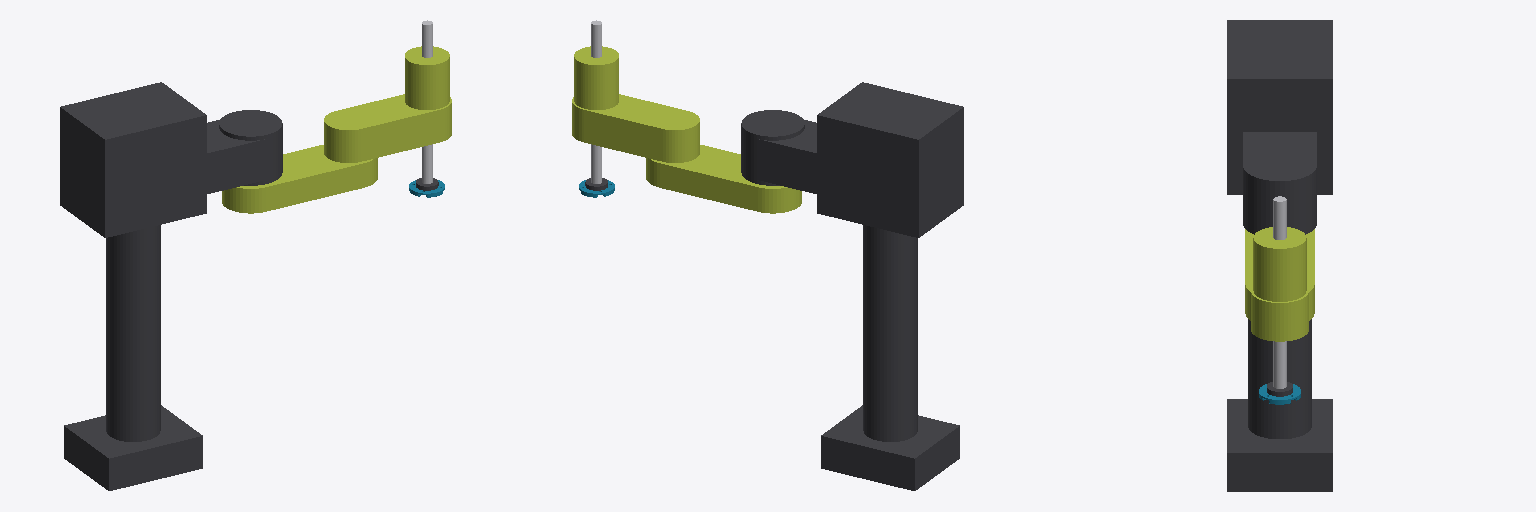
robot.urdf — SR450:
<?xml version="1.0"?>
<!-- Bosch SR450 SCARA, generated by tools/make_bosch_urdf.py from the
     kinematics of ctu_bosch_sr450.RobotBosch: the flange frame is
     RobotBosch.flange_pose(q). The link shapes are boxes / cylinders
     approximating the real arm, the adapter and the hoop are the CAD
     models. joint4 is relative to arm 2 (see RobotBosch.model_q). -->
<robot name="SR450">
    <link name="base_link">
        <inertial><mass value="1"/><inertia ixx="0.01" iyy="0.01" izz="0.01" ixy="0" ixz="0" iyz="0"/></inertial>
        <visual>
            <origin xyz="0 0 0" rpy="0 0 0"/>
            <geometry><mesh filename="meshes/sr450_base_link.stl" scale="0.001 0.001 0.001"/></geometry>
            <material name="base_link_color"><color rgba="0.3 0.3 0.32 1"/></material>
        </visual>
    </link>
    <joint name="joint1" type="revolute">
        <origin xyz="0 0 0" rpy="0 0 0"/>
        <parent link="base_link"/>
        <child link="link_1"/>
        <axis xyz="0 0 1"/>
        <limit effort="100" velocity="10" lower="-1.483524" upper="1.483524"/>
    </joint>
    <link name="link_1">
        <inertial><mass value="1"/><inertia ixx="0.01" iyy="0.01" izz="0.01" ixy="0" ixz="0" iyz="0"/></inertial>
        <visual>
            <origin xyz="0 0 0" rpy="0 0 0"/>
            <geometry><mesh filename="meshes/sr450_link_1.stl" scale="0.001 0.001 0.001"/></geometry>
            <material name="link_1_color"><color rgba="0.72 0.78 0.3 1"/></material>
        </visual>
    </link>
    <joint name="joint2" type="revolute">
        <origin xyz="0.25 0 0" rpy="0 0 0"/>
        <parent link="link_1"/>
        <child link="link_2"/>
        <axis xyz="0 0 1"/>
        <limit effort="100" velocity="10" lower="-2.094405" upper="2.094405"/>
    </joint>
    <link name="link_2">
        <inertial><mass value="1"/><inertia ixx="0.01" iyy="0.01" izz="0.01" ixy="0" ixz="0" iyz="0"/></inertial>
        <visual>
            <origin xyz="0 0 0" rpy="0 0 0"/>
            <geometry><mesh filename="meshes/sr450_link_2.stl" scale="0.001 0.001 0.001"/></geometry>
            <material name="link_2_color"><color rgba="0.72 0.78 0.3 1"/></material>
        </visual>
    </link>
    <joint name="joint3" type="prismatic">
        <origin xyz="0.2 0 0.5" rpy="0 0 0"/>
        <parent link="link_2"/>
        <child link="link_3"/>
        <axis xyz="0 0 1"/>
        <limit effort="100" velocity="10" lower="-0.330000" upper="0.005000"/>
    </joint>
    <link name="link_3">
        <inertial><mass value="1"/><inertia ixx="0.01" iyy="0.01" izz="0.01" ixy="0" ixz="0" iyz="0"/></inertial>
        <visual>
            <origin xyz="0 0 0" rpy="0 0 0"/>
            <geometry><mesh filename="meshes/sr450_link_3.stl" scale="0.001 0.001 0.001"/></geometry>
            <material name="link_3_color"><color rgba="0.8 0.8 0.82 1"/></material>
        </visual>
    </link>
    <joint name="joint4" type="revolute">
        <origin xyz="0 0 0" rpy="0 0 0"/>
        <parent link="link_3"/>
        <child link="link_4"/>
        <axis xyz="0 0 1"/>
        <limit effort="100" velocity="10" lower="-20.000000" upper="20.000000"/>
    </joint>
    <link name="link_4">
        <inertial><mass value="1"/><inertia ixx="0.01" iyy="0.01" izz="0.01" ixy="0" ixz="0" iyz="0"/></inertial>
        <visual>
            <origin xyz="0 0 0" rpy="0 0 0"/>
            <geometry><mesh filename="meshes/sr450_link_4.stl" scale="0.001 0.001 0.001"/></geometry>
            <material name="link_4_color"><color rgba="0.3 0.3 0.32 1"/></material>
        </visual>
    </link>
    <joint name="joint_flange" type="fixed">
        <origin xyz="0 0 0" rpy="0 3.14159265359 0"/>
        <parent link="link_4"/>
        <child link="flange"/>
    </joint>
    <link name="flange">
        <inertial><mass value="1"/><inertia ixx="0.01" iyy="0.01" izz="0.01" ixy="0" ixz="0" iyz="0"/></inertial>
    </link>
    <joint name="joint_adapter" type="fixed">
        <origin xyz="0 0 0" rpy="3.14159265359 0 3.14159265359"/>
        <parent link="flange"/>
        <child link="adapter"/>
    </joint>
    <link name="adapter">
        <inertial><mass value="1"/><inertia ixx="0.01" iyy="0.01" izz="0.01" ixy="0" ixz="0" iyz="0"/></inertial>
        <visual>
            <origin xyz="0 0 0" rpy="0 0 1.5707963268"/>
            <geometry><mesh filename="meshes/bosch_adapter.stl" scale="0.001 0.001 0.001"/></geometry>
            <material name="adapter_color"><color rgba="0.14 0.55 0.68 0.8"/></material>
        </visual>
    </link>
    <joint name="joint_hoop" type="fixed">
        <origin xyz="0 0 -0.008" rpy="0 0 0"/>
        <parent link="adapter"/>
        <child link="hoop"/>
    </joint>
    <link name="hoop">
        <inertial><mass value="1"/><inertia ixx="0.01" iyy="0.01" izz="0.01" ixy="0" ixz="0" iyz="0"/></inertial>
        <visual>
            <origin xyz="0 0 0" rpy="0 0 1.5707963268"/>
            <geometry><mesh filename="meshes/hoop.stl" scale="0.001 0.001 0.001"/></geometry>
            <material name="hoop_color"><color rgba="0.14 0.55 0.68 0.8"/></material>
        </visual>
    </link>
</robot>

--- Render facts (derived) ---
Views: 3 orthographic renders of the robot side by side, from view 1: azimuth 30°, elevation 25°; view 2: azimuth 150°, elevation 25°; view 3: azimuth 270°, elevation 25°.
Model SR450 with 8 links and 7 joints (3 revolute, 1 prismatic, 3 fixed), rooted at base_link, posed every joint at zero.
Links seen in each view (by area): view 1: base_link, link_2, link_1, link_3; view 2: base_link, link_2, link_1, link_3; view 3: base_link, link_2, link_3, link_1.
Link boxes in pixels (bbox=[...]): base_link: bbox=[60, 82, 282, 490]; link_2: bbox=[324, 46, 451, 162]; link_1: bbox=[222, 145, 377, 213]; link_3: bbox=[422, 20, 432, 183]; base_link: bbox=[741, 82, 963, 490]; link_2: bbox=[572, 46, 699, 162]; link_1: bbox=[646, 145, 801, 213]; link_3: bbox=[591, 20, 601, 183]; base_link: bbox=[1227, 20, 1332, 491]; link_2: bbox=[1251, 227, 1308, 341]; link_3: bbox=[1273, 196, 1286, 388]; link_1: bbox=[1245, 229, 1314, 320].
Bounding box of the posed robot: 0.935 × 0.2 × 0.9 m (x, y, z).
6 mesh visuals loaded from 7 distinct referenced files (6 binary STL); not drawn: 1 (reference not matched to a file when rendering).
